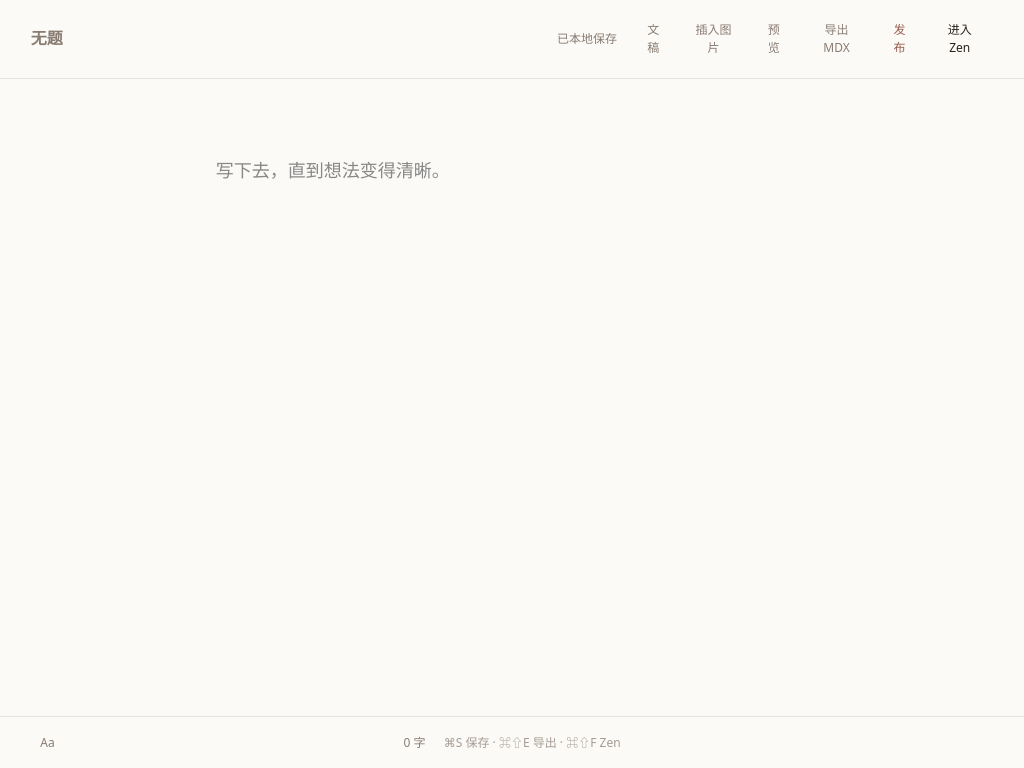
Test: writer studio › saves the current draft before selecting another local draft
This screenshot has width=1024, height=768.
Expected: the field named "文章标题" is shown, x1=31 y1=28 x2=533 y2=50
Click the button "文稿".
click(653, 39)  # box x1=631 y1=12 x2=675 y2=66
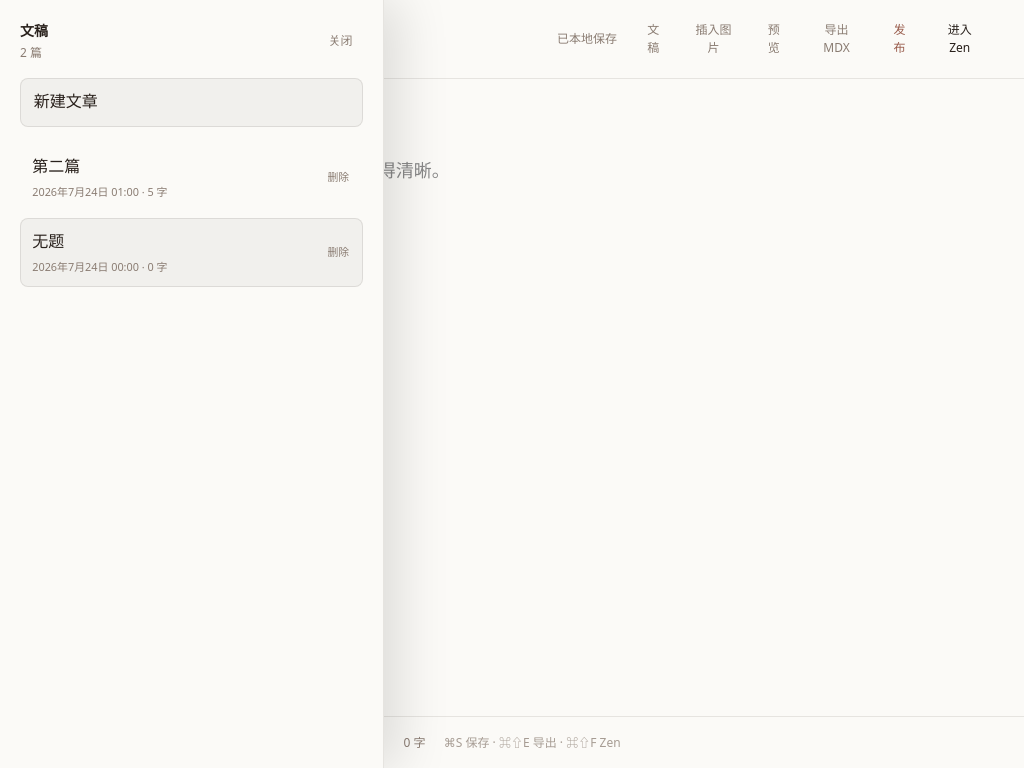
Click the button with aria-label "打开 第二篇".
click(56, 166)  # box x1=21 y1=144 x2=315 y2=211
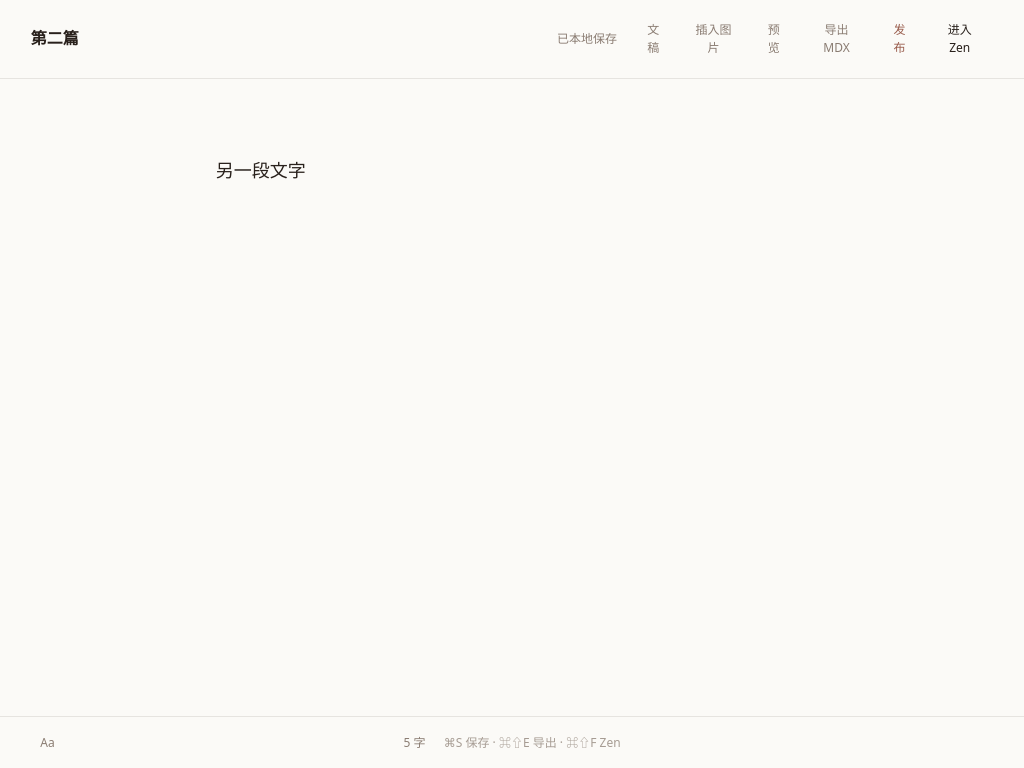
Result: the field named "文章标题" holds "第二篇" at x1=31 y1=28 x2=533 y2=50
Result: the element "文稿库" is gone
